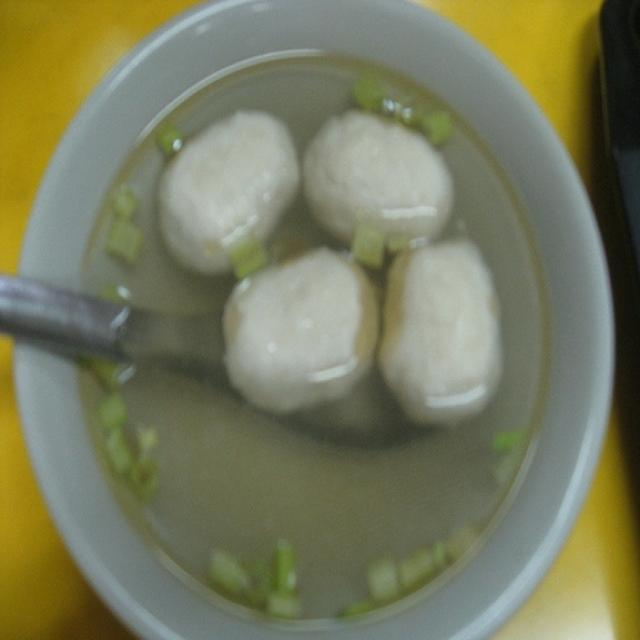熟制海鲜: (48, 24, 598, 620)
